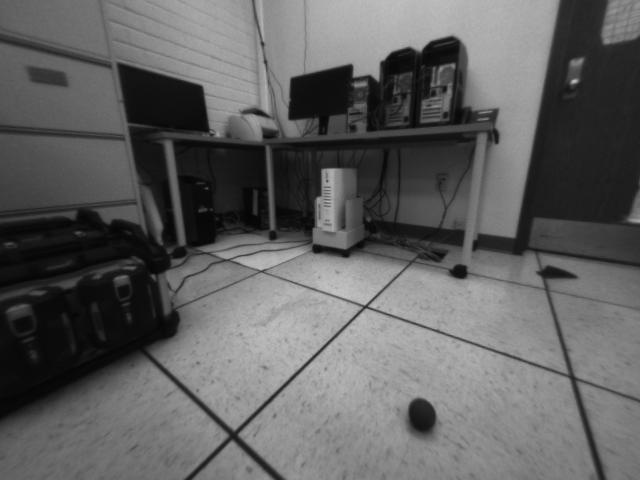dogtoy: (398, 387, 444, 436)
